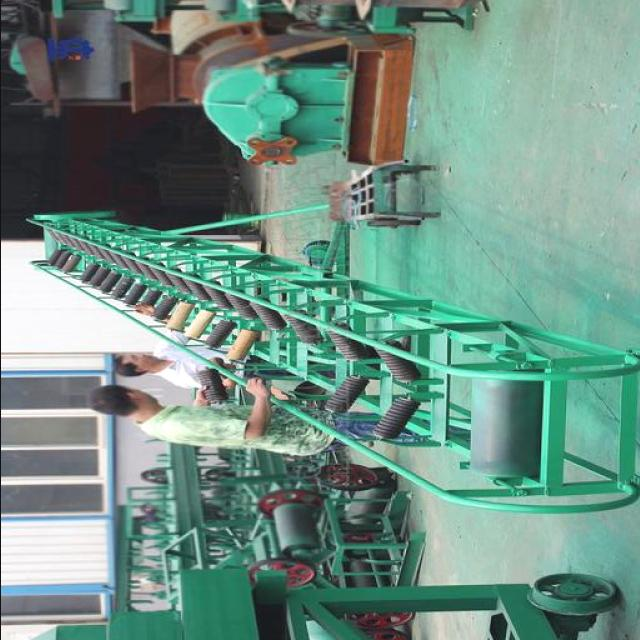conveyor: (41, 225, 553, 499)
